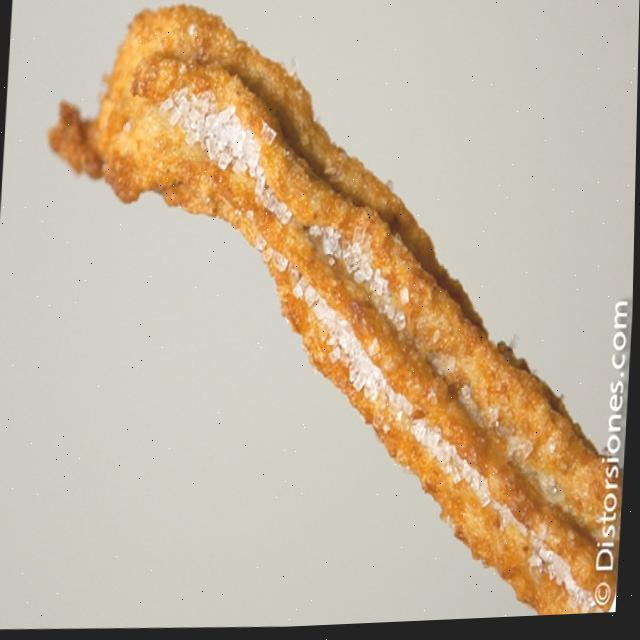炸货点心: (4, 5, 640, 639)
